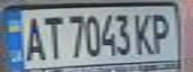0: (81, 11, 100, 58)
3: (115, 10, 133, 56)
4: (100, 10, 118, 57)
7: (63, 11, 84, 60)
A: (18, 12, 48, 62)
K: (130, 9, 157, 56)
P: (148, 9, 178, 54)
T: (39, 11, 66, 62)
